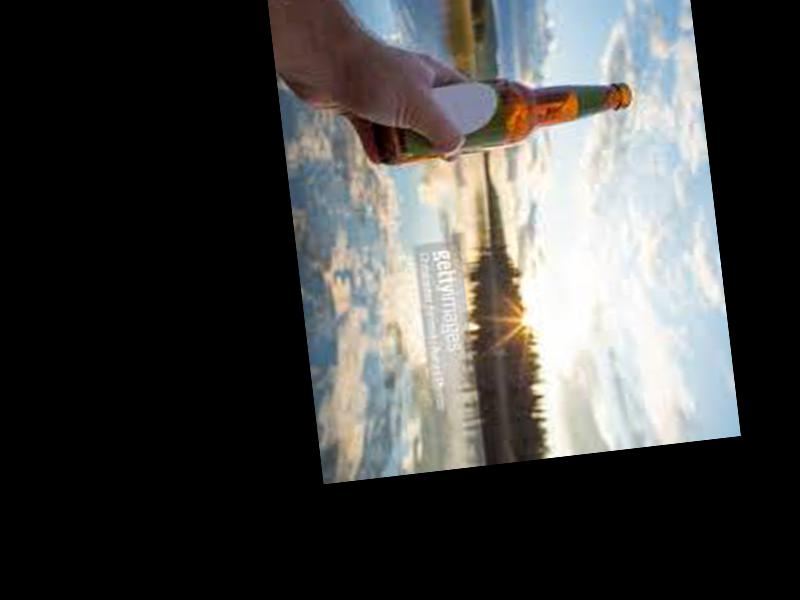Beer: (372, 61, 639, 170)
